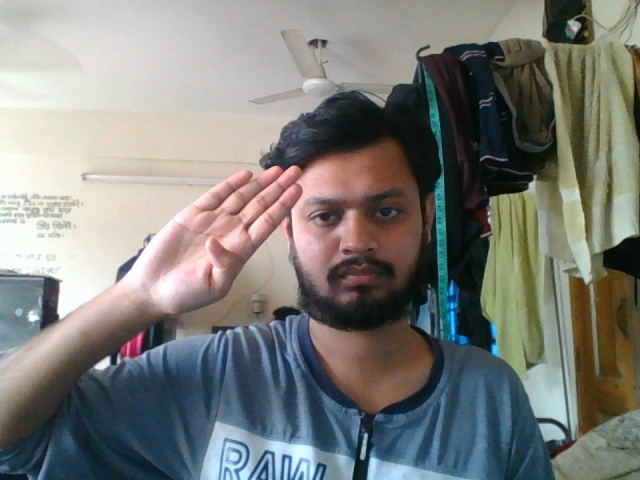salam: (115, 158, 308, 325)
